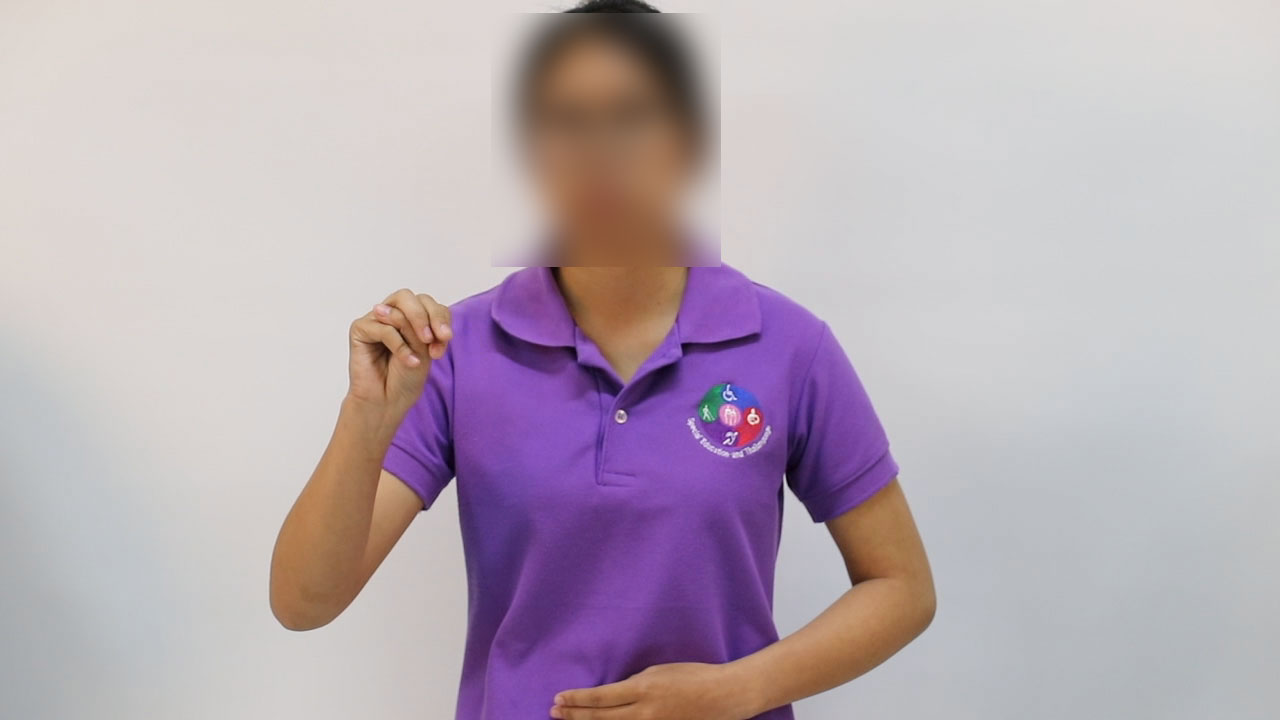mor: (329, 254, 464, 451)
